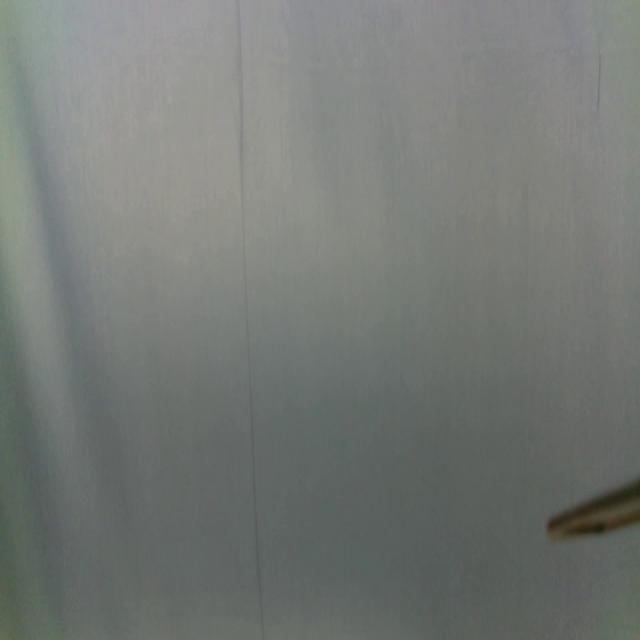crease: (236, 0, 264, 640), (596, 45, 603, 114)
